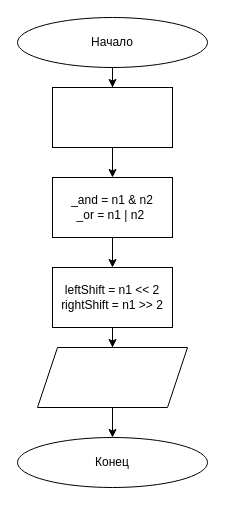
Image size: 225x505. Some labels were removed from this diagram. The shapes that lost their labels are listed below. From the top down, each one's box as (x1, y1, x2, y2) in pixels, then its label:
(52, 86, 172, 148): n1 = 5 n2 = 6
(36, 346, 188, 408): _and, _or, leftShift, rightShift
